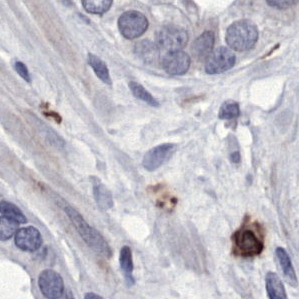Lymphocyte: (231, 229, 266, 258)
